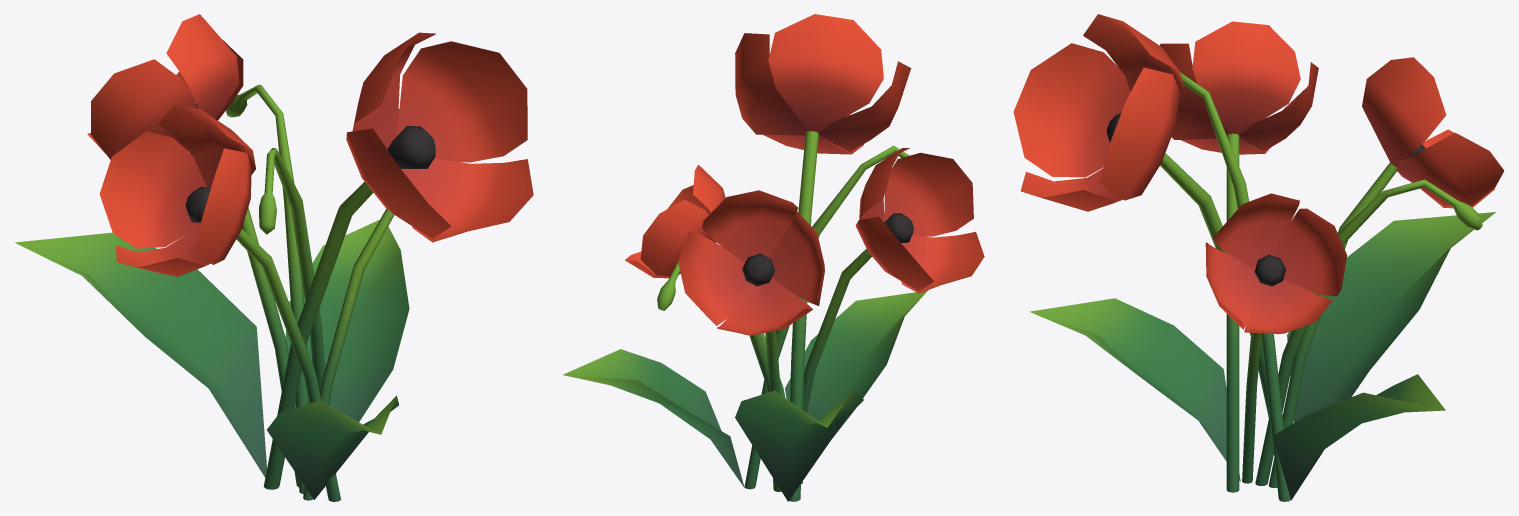
Rendered from Flower_029.fbx.
The picture shows the model from 3 angles, left to right: view 1: azimuth 30°, elevation 25°; view 2: azimuth 150°, elevation 25°; view 3: azimuth 270°, elevation 25°; orthographic projection. The views are drawn at different scales.
Parts seen in each view (by area): view 1: Flower.029; view 2: Flower.029; view 3: Flower.029.
Boxes of the visible parts, x1,y1,x2,y2 form: Flower.029: (15,14,533,501); Flower.029: (563,14,984,501); Flower.029: (1013,14,1504,501).
Bounding box in the file's own units: 2.34 × 2.95 × 2.73.
